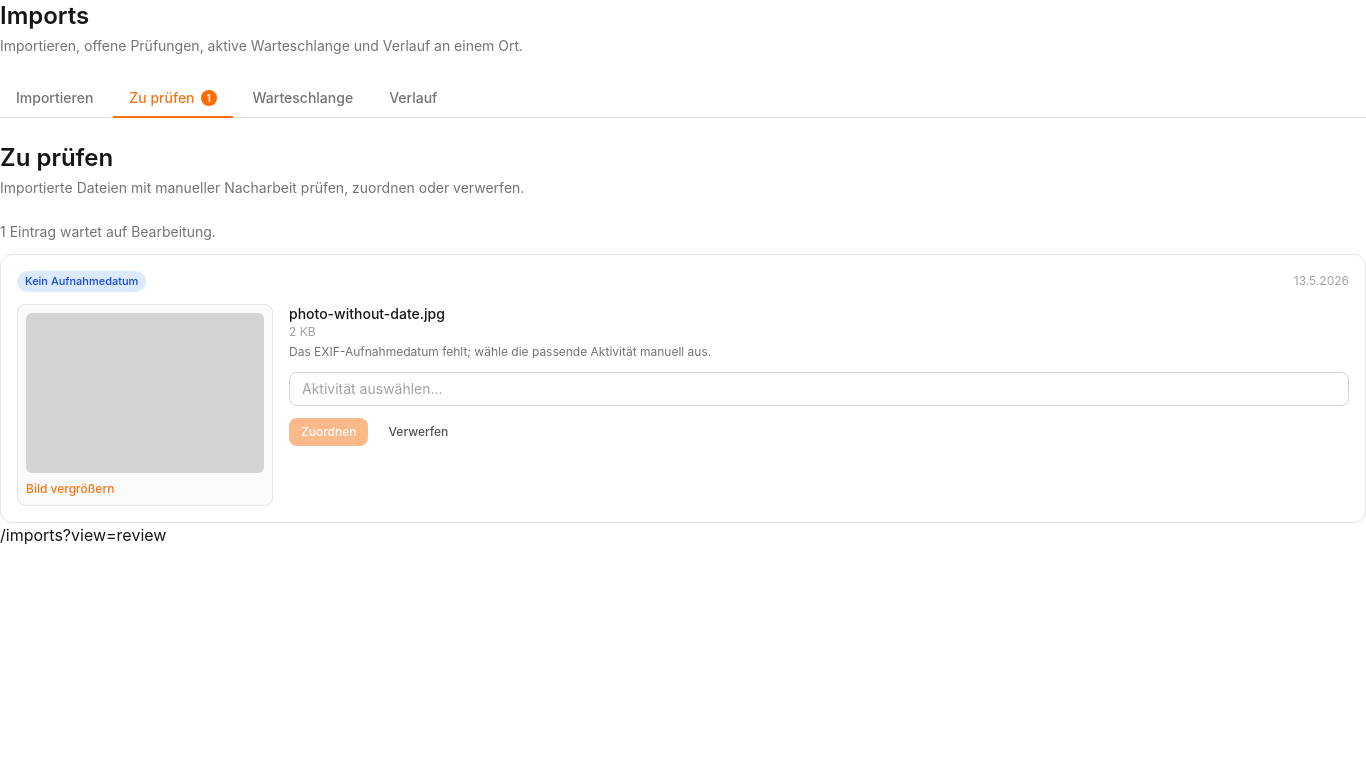
Test: ImportsPage › opens a larger preview for image queue items
Click the button with aria-label "Bildvorschau von photo-without-date.jpg vergrößern". click: (145,404)
box: [17, 304, 273, 506]
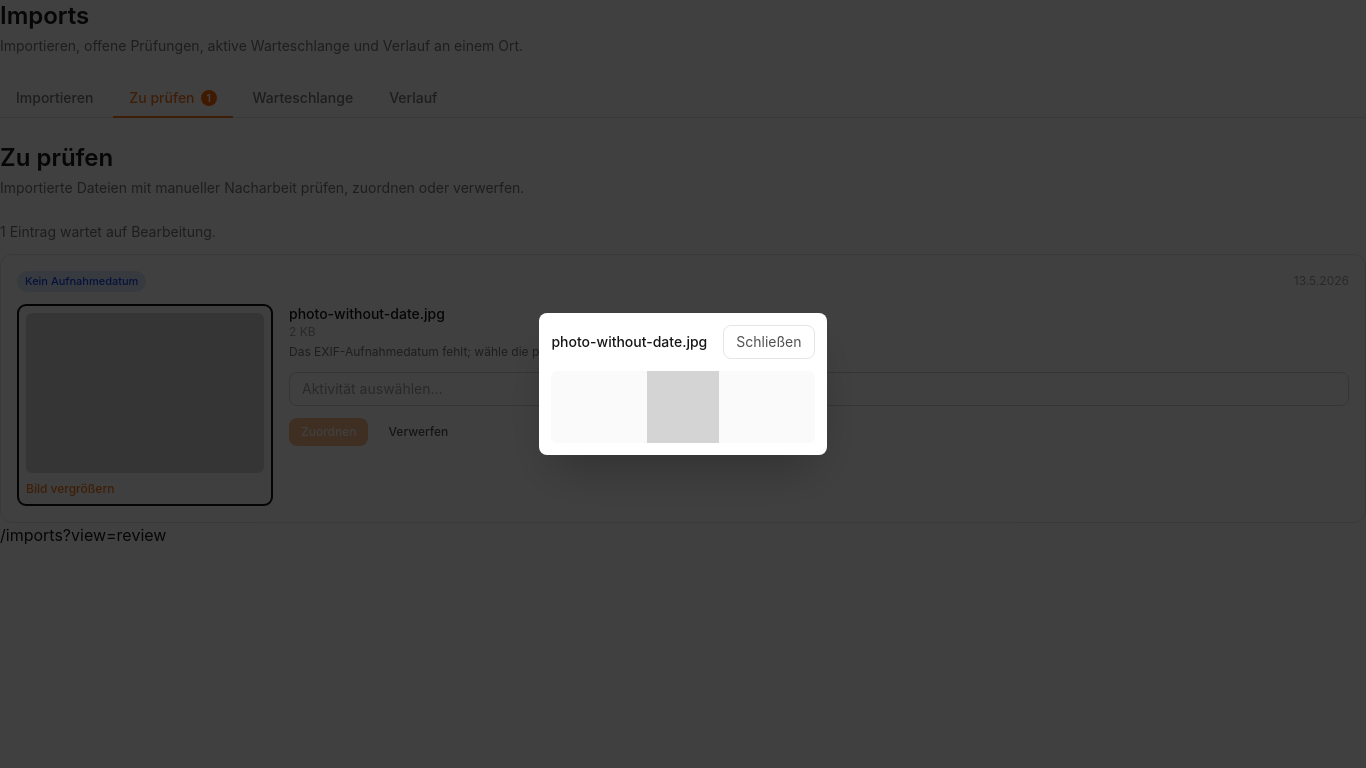
expect the dialog named "Bildvorschau" is shown: met
